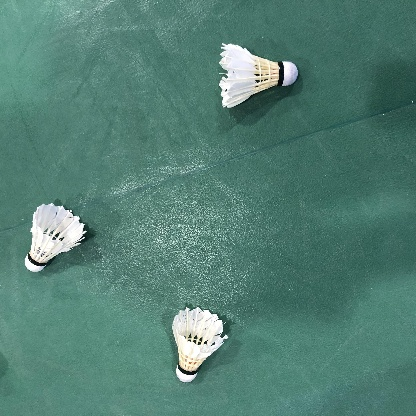ball_single: (219, 44, 298, 108), (25, 203, 87, 272), (172, 307, 228, 382)
